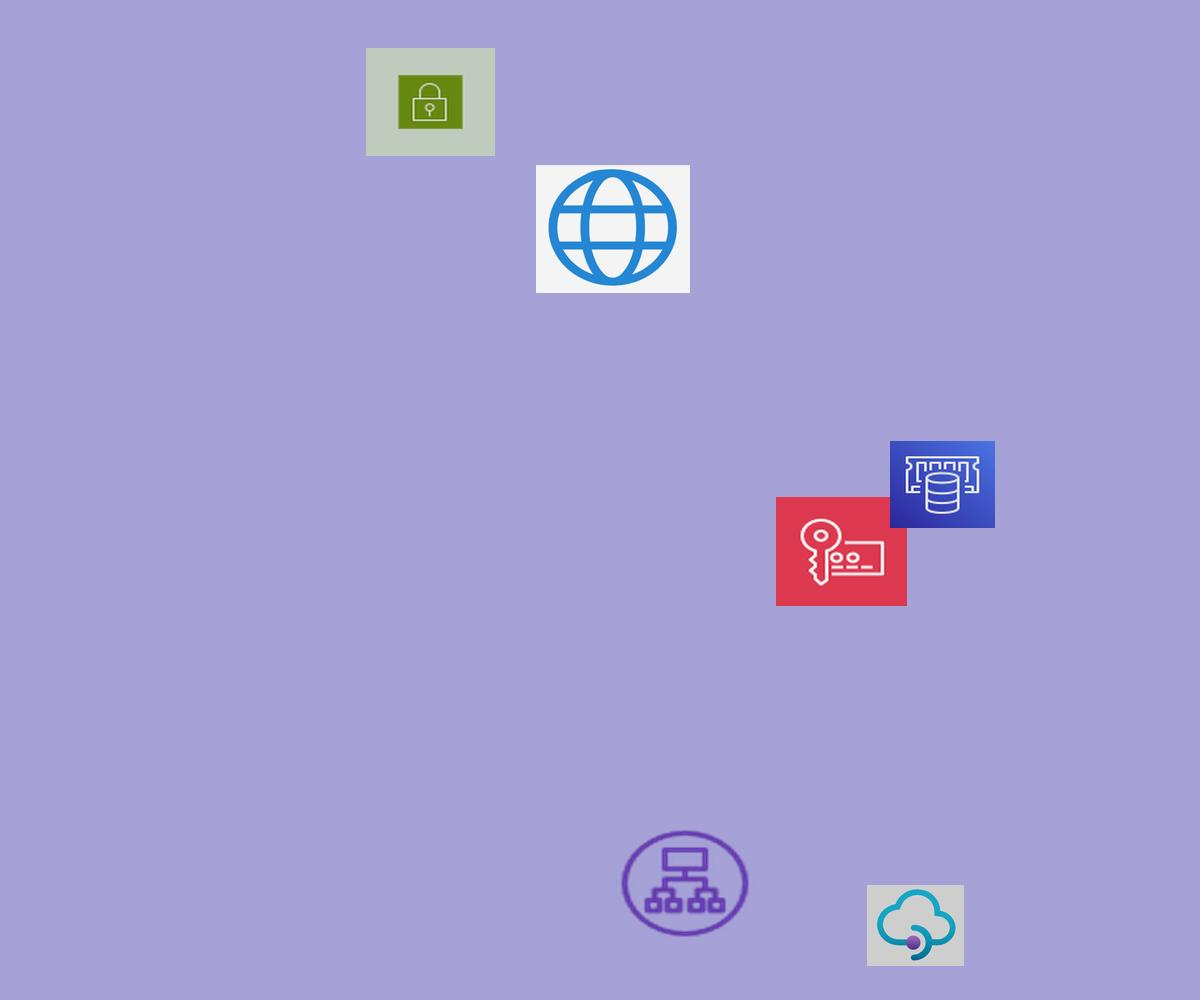AWS-ElastiCache: (890, 441, 995, 528)
AWS-Key-Management-Service: (776, 497, 907, 606)
AWS-Public-subnet: (366, 48, 495, 156)
AWS-Res_Elastic-Load-Balancing_Application-Load-Balancer: (616, 826, 754, 941)
Azure_api_gateway: (867, 885, 964, 966)
Azure_http: (536, 165, 690, 293)
